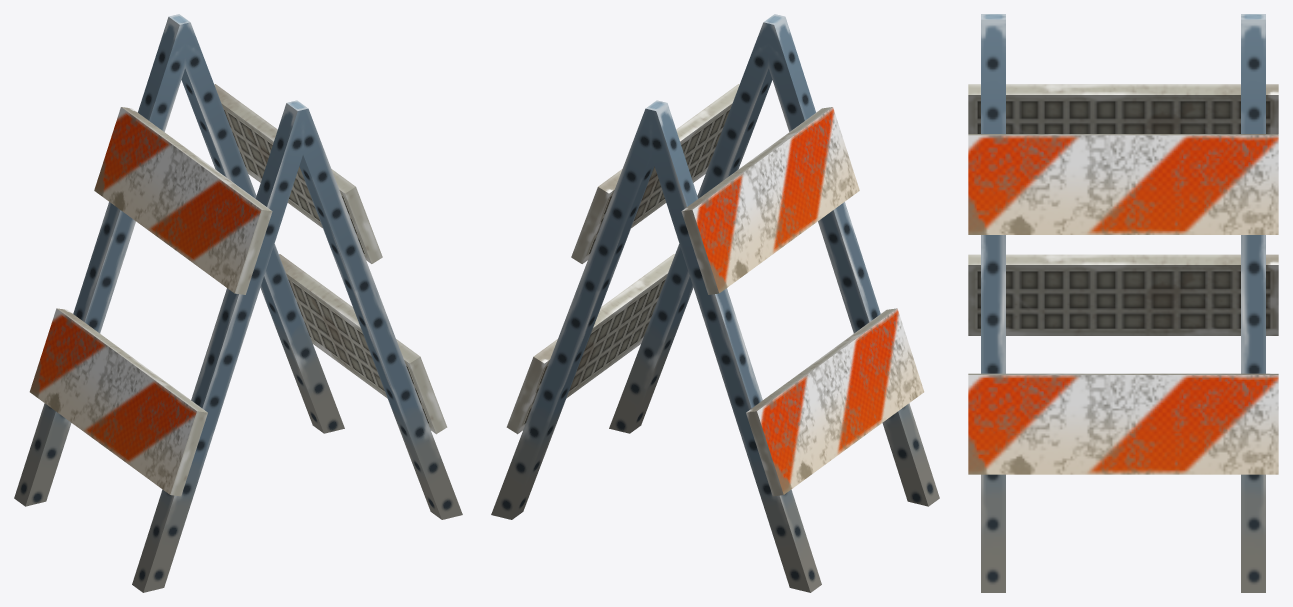
File: trafficBarricade01.fbx
The picture shows the model from 3 angles, left to right: view 1: azimuth 30°, elevation 25°; view 2: azimuth 150°, elevation 25°; view 3: azimuth 270°, elevation 25°; orthographic projection. The views are drawn at different scales.
Parts seen in each view (by area): view 1: trafficBarricade01; view 2: trafficBarricade01; view 3: trafficBarricade01.
Boxes of the visible parts, bbox=[...] form: trafficBarricade01: bbox=[14, 14, 462, 592]; trafficBarricade01: bbox=[491, 14, 939, 592]; trafficBarricade01: bbox=[968, 14, 1278, 592].
Size of the model in its own units: 81.41 by 108 by 62.
